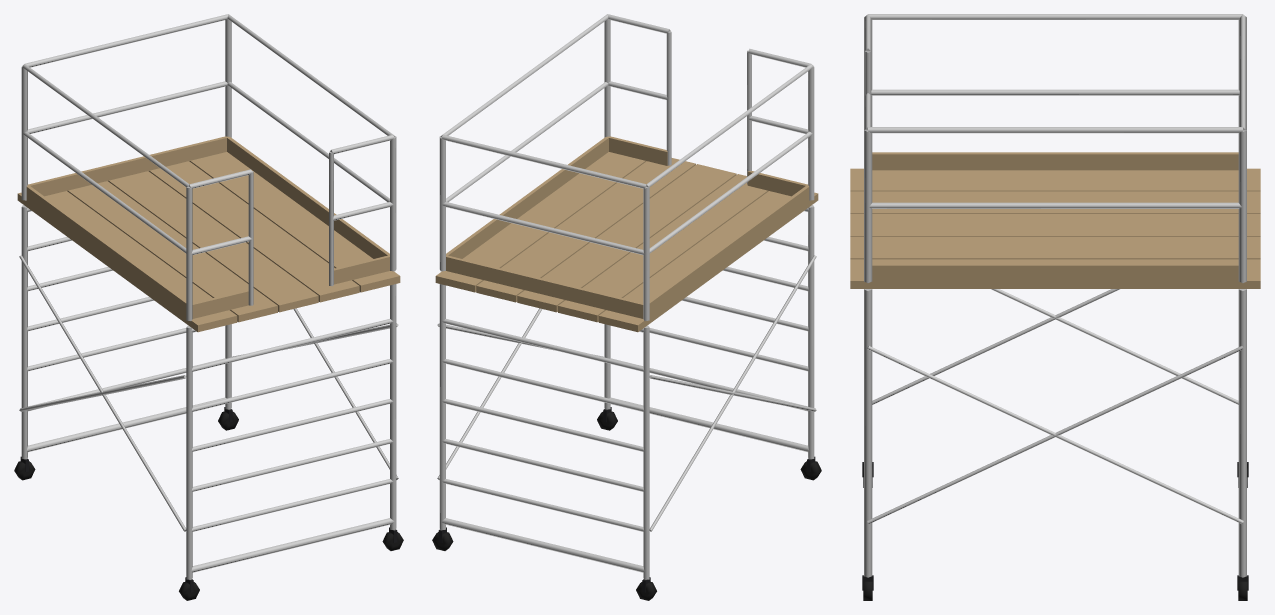
File: scaffold-tower-low.glb
3 views of the same model, side by side, from view 1: azimuth 30°, elevation 25°; view 2: azimuth 150°, elevation 25°; view 3: azimuth 270°, elevation 25° (orthographic). The views are drawn at different scales.
Visible parts, largest first — view 1: plank, galvanized, rubber; view 2: plank, galvanized, rubber; view 3: plank, galvanized.
Part boxes in pixels (bbox=[...]): plank: bbox=[17, 136, 400, 332]; galvanized: bbox=[19, 14, 398, 579]; rubber: bbox=[14, 411, 403, 600]; plank: bbox=[435, 136, 818, 332]; galvanized: bbox=[437, 14, 816, 579]; rubber: bbox=[432, 411, 821, 600]; plank: bbox=[850, 152, 1260, 288]; galvanized: bbox=[864, 14, 1246, 577].
Bounding box in the file's own units: 1.65 × 2.96 × 2.33.
